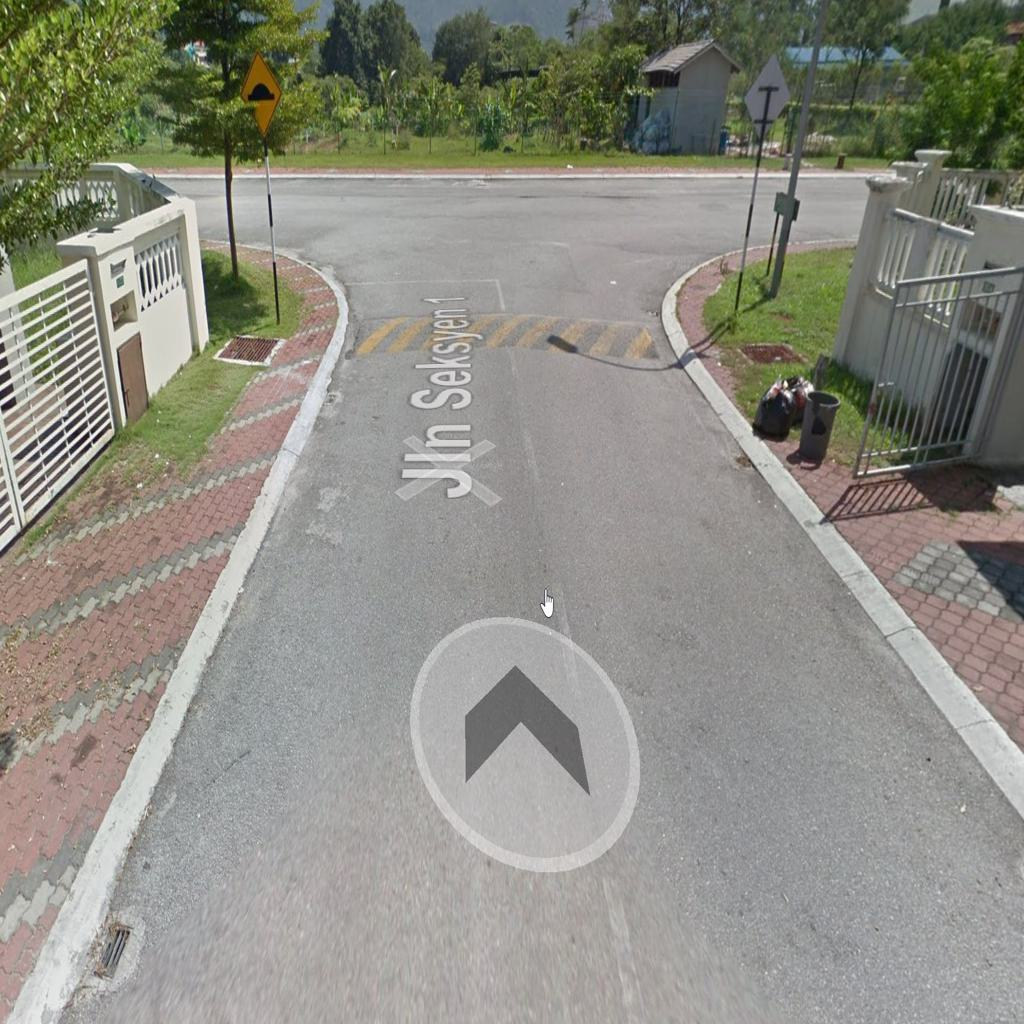Junction: (632, 150, 857, 312), (194, 151, 369, 308)
